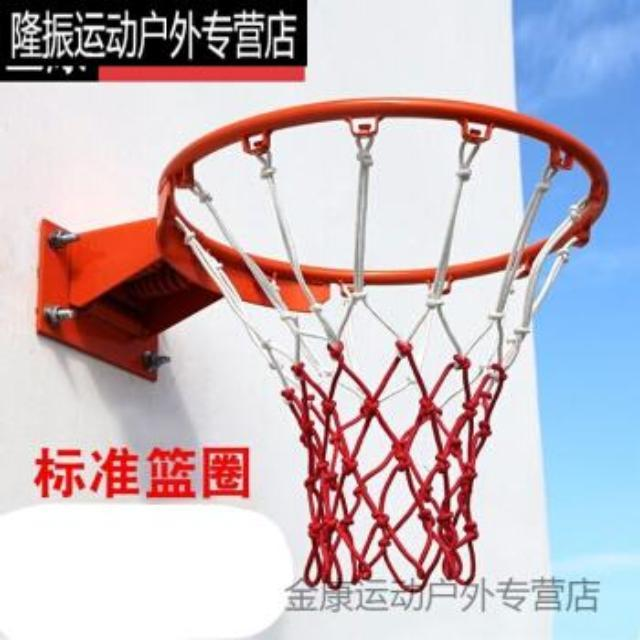rim: (157, 99, 611, 593)
